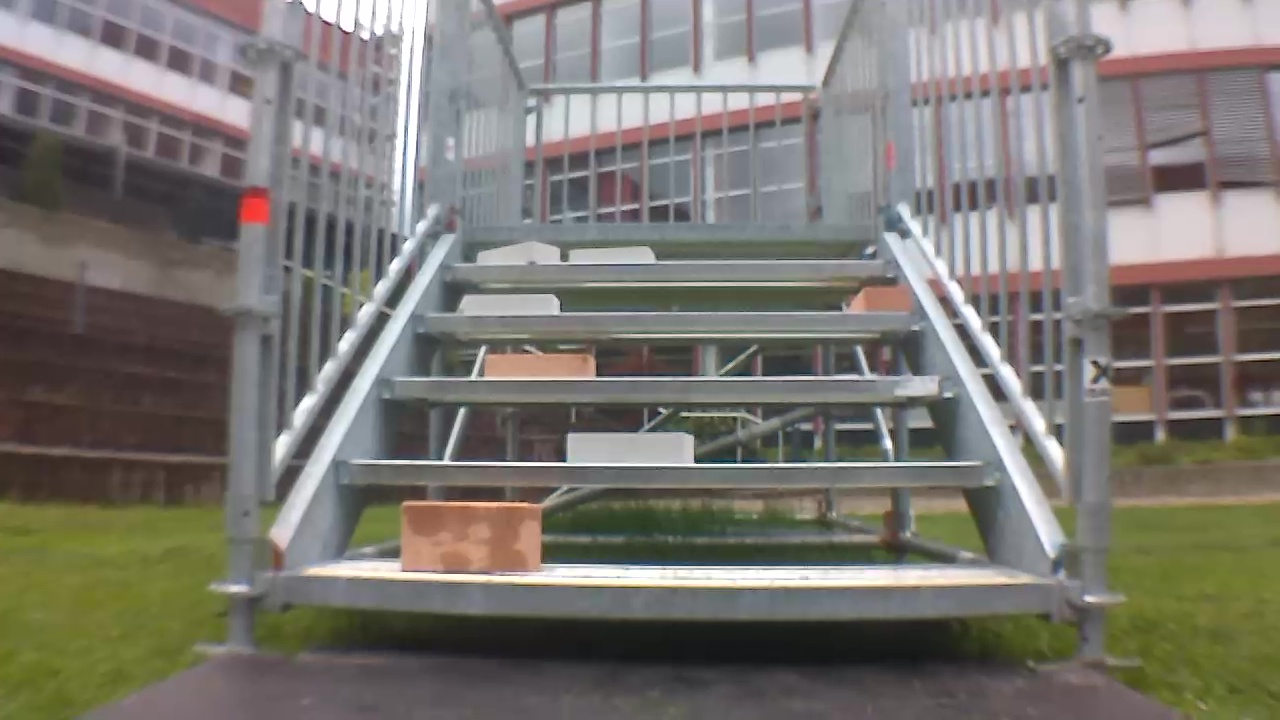brick: (400, 501, 538, 570), (567, 432, 694, 465), (485, 354, 594, 377), (478, 241, 560, 263), (464, 295, 560, 313), (569, 245, 654, 263), (851, 288, 913, 312)
edge: (290, 576, 1055, 618), (338, 459, 1005, 488), (376, 378, 962, 400), (444, 260, 897, 281), (415, 313, 930, 331), (465, 221, 879, 242)
stairs: (210, 2, 1124, 668)
steps: (272, 216, 1060, 629)
